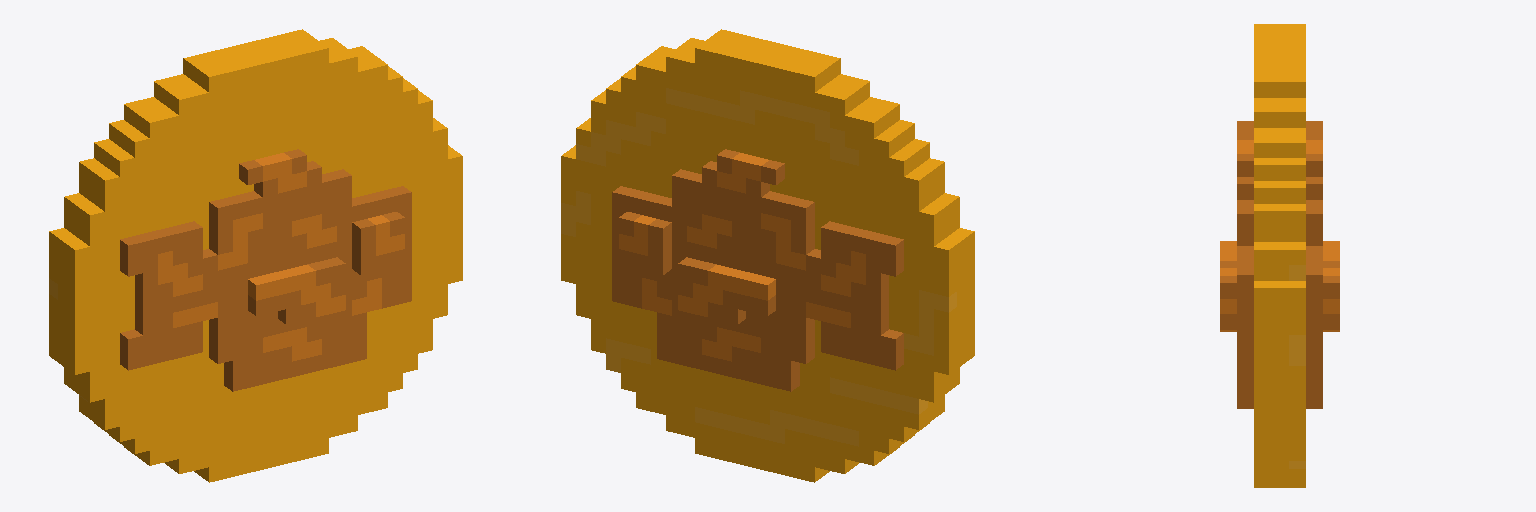
The picture shows the model from 3 angles: view 1: azimuth 30°, elevation 25°; view 2: azimuth 150°, elevation 25°; view 3: azimuth 270°, elevation 25°; orthographic projection.
Visible parts, largest first — view 1: object 1; view 2: object 1; view 3: object 1.
Boxes of the visible parts, box(x1,y1,x2,y2) form: object 1: box(49, 29, 462, 482); object 1: box(561, 29, 974, 482); object 1: box(1220, 24, 1339, 487).
Bounding box in the file's own units: 2.6 × 2.6 × 0.7.
1 materials, 1 textured.